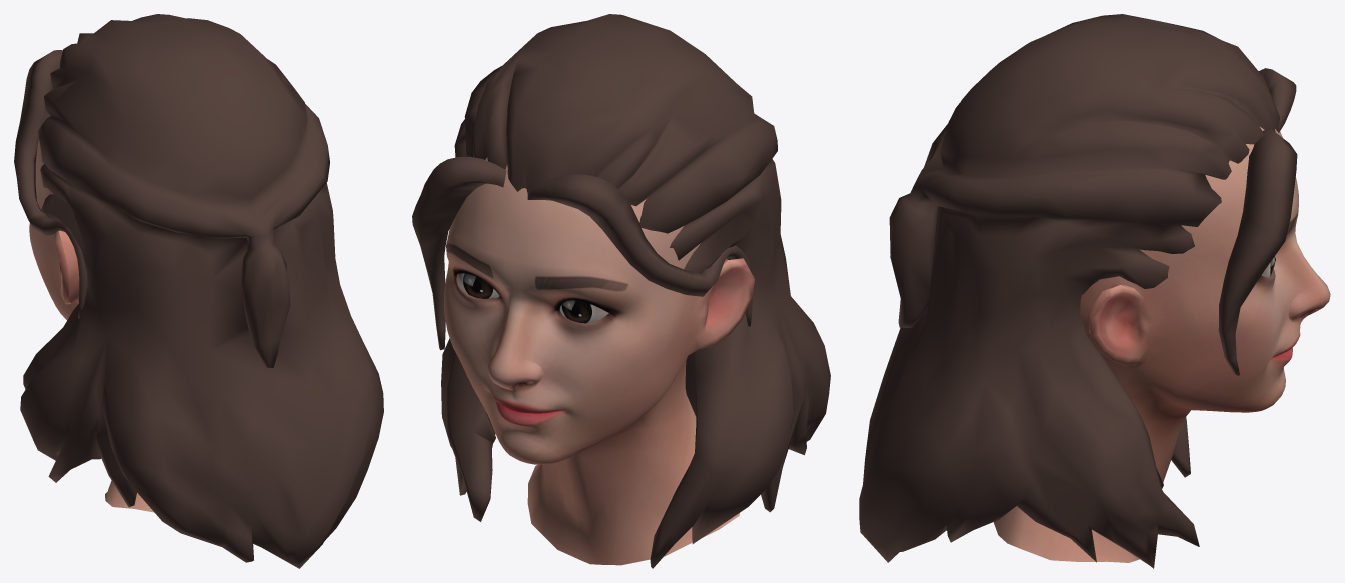
The model's file is av_georgina_head.glb.
3 views of the same model, side by side, from view 1: azimuth 30°, elevation 25°; view 2: azimuth 150°, elevation 25°; view 3: azimuth 270°, elevation 25° (orthographic). The views are drawn at different scales.
Parts seen in each view (by area): view 1: EyeLeft; view 2: EyeLeft; view 3: EyeLeft.
Part boxes in pixels (x1,y1,x2,y2): EyeLeft: (14,14,383,568); EyeLeft: (412,14,830,568); EyeLeft: (859,14,1330,568).
Bounding box in the file's own units: 0.4479 × 0.6627 × 0.5484.
Materials: 3 (3 with a texture image).
